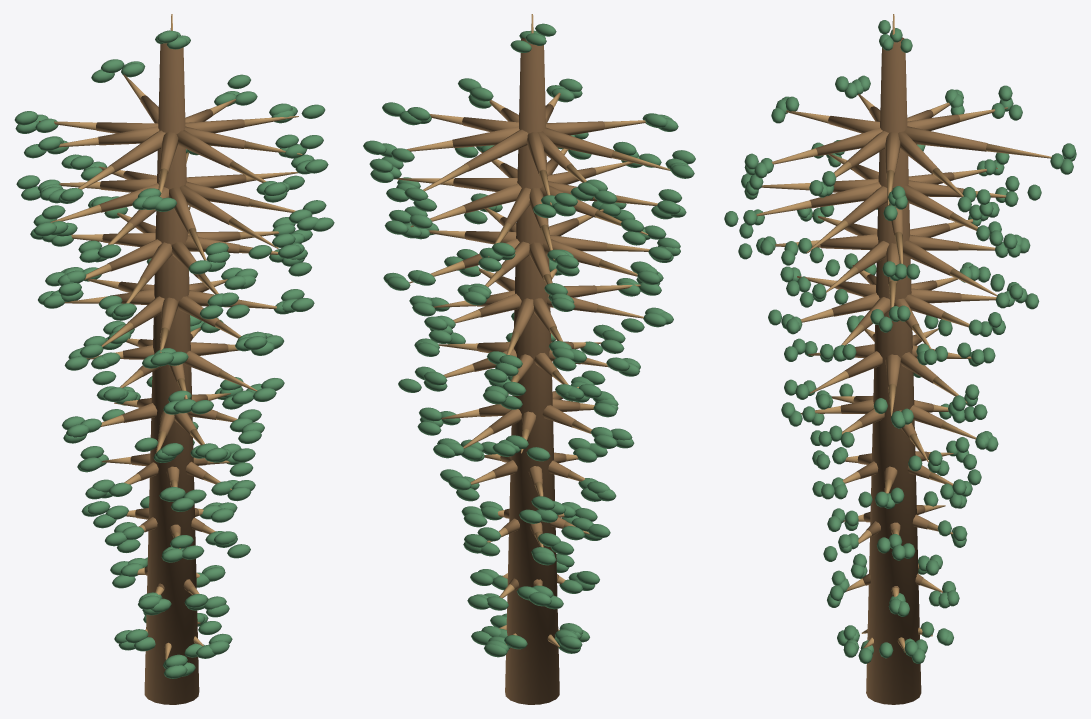
The model's file is conifer_tree_d.glb.
The picture shows the model from 3 angles, left to right: view 1: azimuth 30°, elevation 25°; view 2: azimuth 150°, elevation 25°; view 3: azimuth 270°, elevation 25°; orthographic projection.
Visible parts, largest first — view 1: conifer_tree_d_trunk, conifer_tree_d_branch_0_7_a, conifer_tree_d_branch_0_5_a, conifer_tree_d_branch_1_7_a, conifer_tree_d_branch_1_8_a, conifer_tree_d_branch_0_4_a, conifer_tree_d_branch_2_4_a, conifer_tree_d_branch_0_8_a, conifer_tree_d_branch_1_0_a, conifer_tree_d_branch_0_0_a, conifer_tree_d_branch_1_3_a, conifer_tree_d_branch_2_5_a (+6 smaller); view 2: conifer_tree_d_trunk, conifer_tree_d_branch_0_2_a, conifer_tree_d_branch_0_5_a, conifer_tree_d_branch_1_1_a, conifer_tree_d_branch_0_1_a, conifer_tree_d_branch_1_0_a, conifer_tree_d_branch_0_6_a, conifer_tree_d_branch_0_0_a, conifer_tree_d_branch_2_5_a, conifer_tree_d_branch_3_1_a, conifer_tree_d_branch_2_4_a, conifer_tree_d_branch_0_3_a; view 3: conifer_tree_d_trunk, conifer_tree_d_branch_0_2_a, conifer_tree_d_branch_1_7_a, conifer_tree_d_branch_0_7_a, conifer_tree_d_branch_2_1_a, conifer_tree_d_branch_2_6_a, conifer_tree_d_branch_1_8_a, conifer_tree_d_branch_1_1_a, conifer_tree_d_branch_0_1_a, conifer_tree_d_branch_0_8_a, conifer_tree_d_branch_0_6_a, conifer_tree_d_branch_3_6_a (+4 smaller).
Boxes of the visible parts, bbox=[...] form: conifer_tree_d_trunk: bbox=[144, 43, 199, 704]; conifer_tree_d_branch_0_7_a: bbox=[176, 130, 233, 167]; conifer_tree_d_branch_0_5_a: bbox=[109, 130, 165, 172]; conifer_tree_d_branch_1_7_a: bbox=[179, 185, 233, 224]; conifer_tree_d_branch_1_8_a: bbox=[185, 181, 249, 206]; conifer_tree_d_branch_0_4_a: bbox=[98, 126, 159, 145]; conifer_tree_d_branch_2_4_a: bbox=[107, 239, 161, 271]; conifer_tree_d_branch_0_8_a: bbox=[184, 126, 245, 148]; conifer_tree_d_branch_1_0_a: bbox=[186, 174, 246, 188]; conifer_tree_d_branch_0_0_a: bbox=[185, 119, 244, 133]; conifer_tree_d_branch_1_3_a: bbox=[100, 178, 156, 192]; conifer_tree_d_branch_2_5_a: bbox=[140, 242, 172, 282]; conifer_tree_d_trunk: bbox=[505, 38, 559, 704]; conifer_tree_d_branch_0_2_a: bbox=[464, 129, 528, 171]; conifer_tree_d_branch_0_5_a: bbox=[543, 127, 613, 158]; conifer_tree_d_branch_1_1_a: bbox=[463, 183, 521, 213]; conifer_tree_d_branch_0_1_a: bbox=[452, 126, 519, 148]; conifer_tree_d_branch_1_0_a: bbox=[453, 178, 517, 191]; conifer_tree_d_branch_0_6_a: bbox=[546, 121, 604, 135]; conifer_tree_d_branch_0_0_a: bbox=[462, 117, 518, 131]; conifer_tree_d_branch_2_5_a: bbox=[550, 235, 606, 251]; conifer_tree_d_branch_3_1_a: bbox=[478, 293, 521, 317]; conifer_tree_d_branch_2_4_a: bbox=[543, 239, 601, 267]; conifer_tree_d_branch_0_3_a: bbox=[526, 132, 546, 175]; conifer_tree_d_trunk: bbox=[866, 37, 921, 704]; conifer_tree_d_branch_0_2_a: bbox=[904, 126, 987, 151]; conifer_tree_d_branch_1_7_a: bbox=[810, 182, 881, 208]; conifer_tree_d_branch_0_7_a: bbox=[815, 128, 882, 156]; conifer_tree_d_branch_2_1_a: bbox=[903, 240, 954, 275]; conifer_tree_d_branch_2_6_a: bbox=[820, 234, 878, 250]; conifer_tree_d_branch_1_8_a: bbox=[842, 186, 887, 227]; conifer_tree_d_branch_1_1_a: bbox=[903, 185, 953, 219]; conifer_tree_d_branch_0_1_a: bbox=[898, 131, 937, 174]; conifer_tree_d_branch_0_8_a: bbox=[846, 131, 888, 168]; conifer_tree_d_branch_0_6_a: bbox=[828, 116, 879, 133]; conifer_tree_d_branch_3_6_a: bbox=[831, 293, 879, 316].
Bounding box in the file's own units: 3.74 × 8.11 × 3.82.
